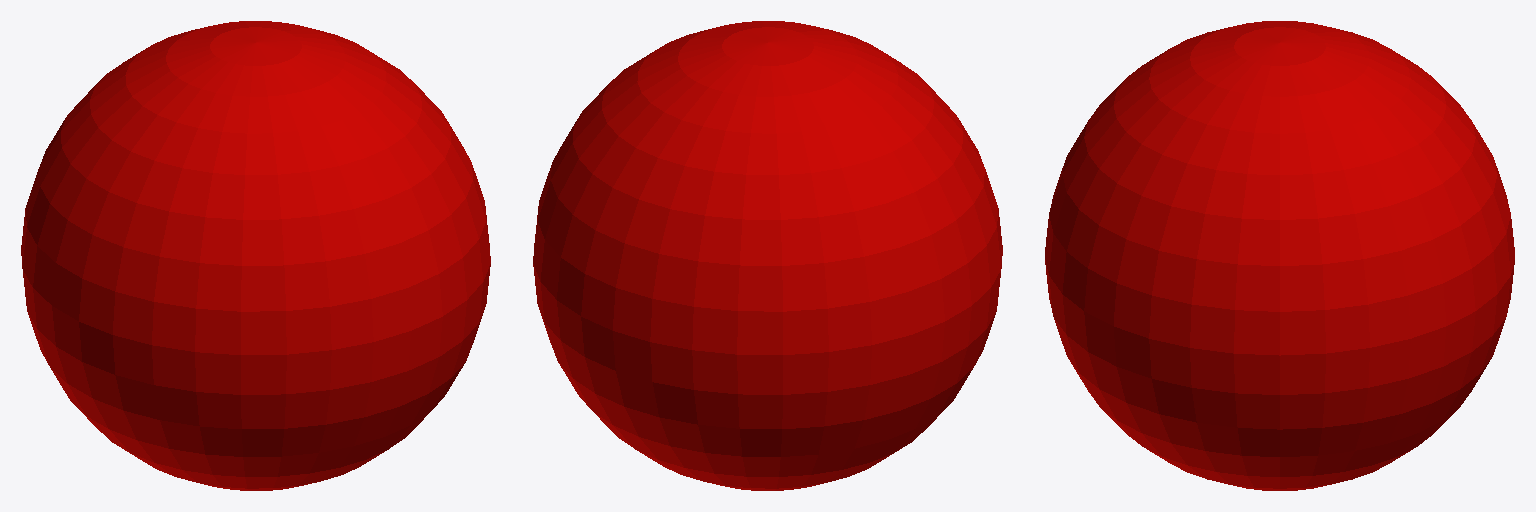
File: sun.obj
The picture shows the model from 3 angles: view 1: azimuth 30°, elevation 25°; view 2: azimuth 150°, elevation 25°; view 3: azimuth 270°, elevation 25°; orthographic projection.
Visible parts, largest first — view 1: Sphere; view 2: Sphere; view 3: Sphere.
Boxes of the visible parts, <box> form: Sphere: <box>21,21,490,490</box>; Sphere: <box>533,21,1002,490</box>; Sphere: <box>1045,21,1514,490</box>.
Size of the model in its own units: 2 by 2 by 2.